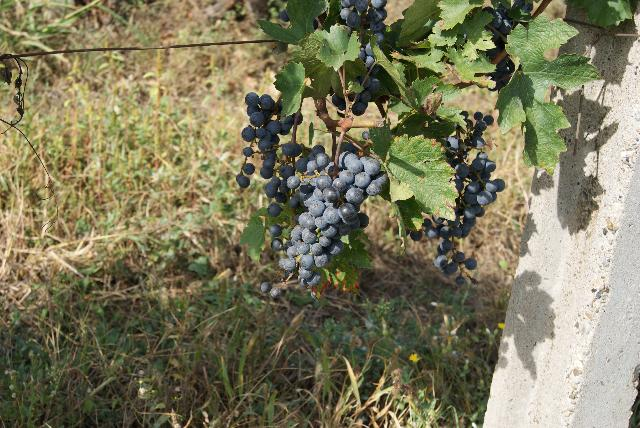grapes: (280, 145, 389, 289), (424, 112, 505, 285), (241, 92, 294, 179), (261, 145, 324, 218)
